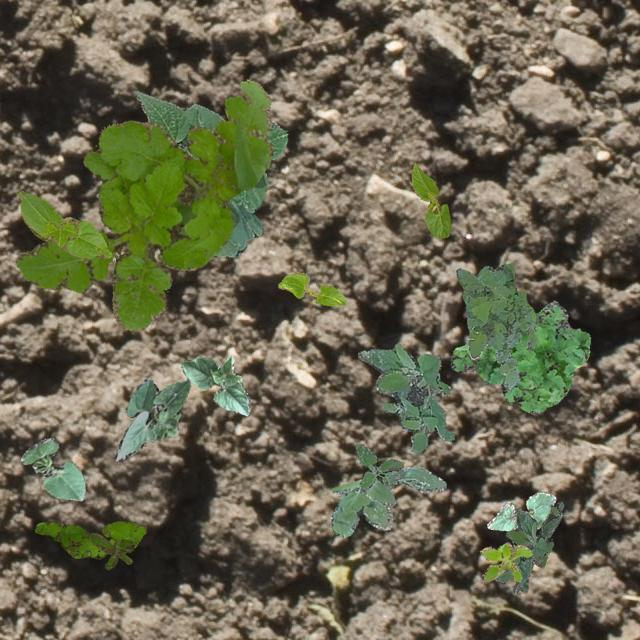crop: (134, 90, 286, 256), (114, 376, 190, 462), (15, 190, 110, 258), (180, 354, 250, 414), (20, 438, 84, 500), (410, 162, 450, 236), (486, 492, 554, 530), (278, 272, 346, 304)
weed: (14, 78, 272, 330), (449, 300, 588, 412), (357, 342, 452, 452), (456, 262, 536, 388), (330, 464, 444, 536), (494, 501, 562, 594), (34, 520, 146, 558), (354, 444, 404, 491), (479, 542, 532, 580), (88, 532, 132, 568)
